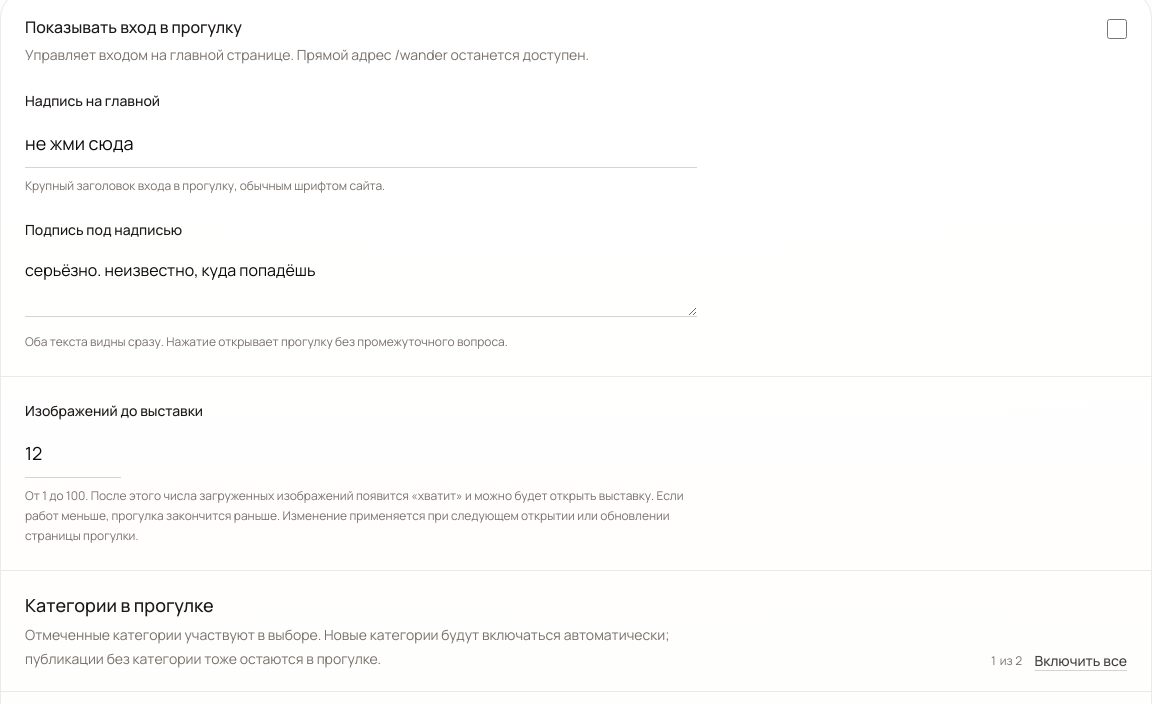
Test: настройки прогулки › позволяет вернуть все категории одной кнопкой
Click the button "Включить все" at (1081, 660), box [1034,650,1127,670]
(page scrolled)
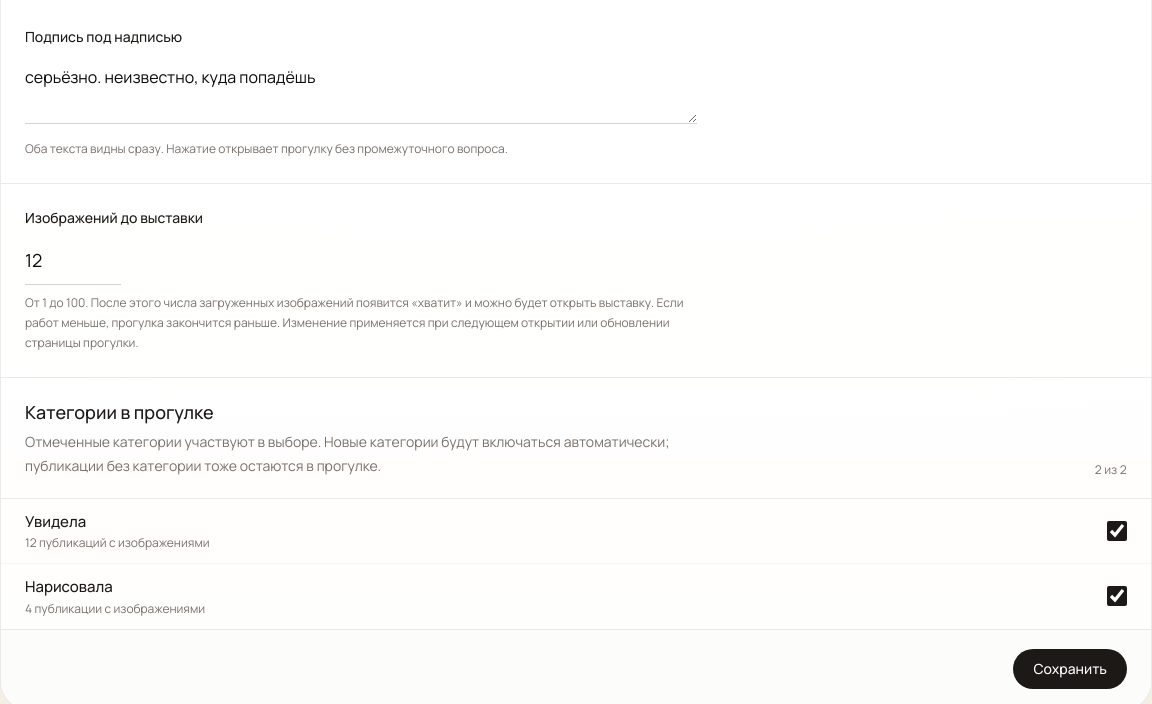
Expected: the checkbox named "Показывать категорию «Увидела»" is checked, [1107,521,1127,541]
